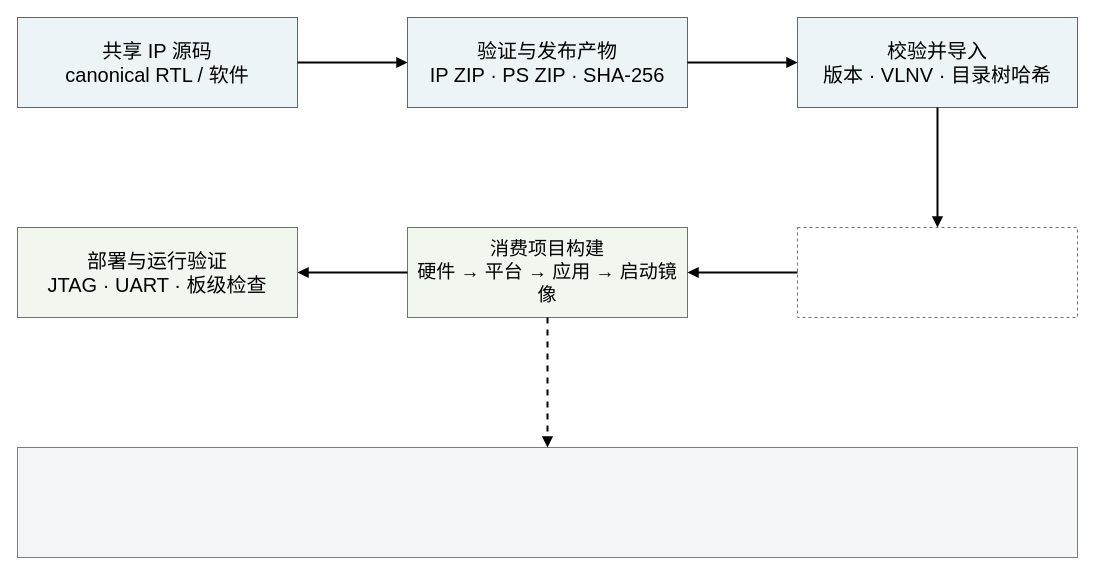
This 1095x575 diagram has some shape labels left out. Each missing label, with the centre of its shape:
workspace 运行记录 项目指纹 · 依赖边 · stage run ID · 产物哈希 · 导入前后快照: point 547,502
消费项目回归（可选） host / RTL: point 937,272
